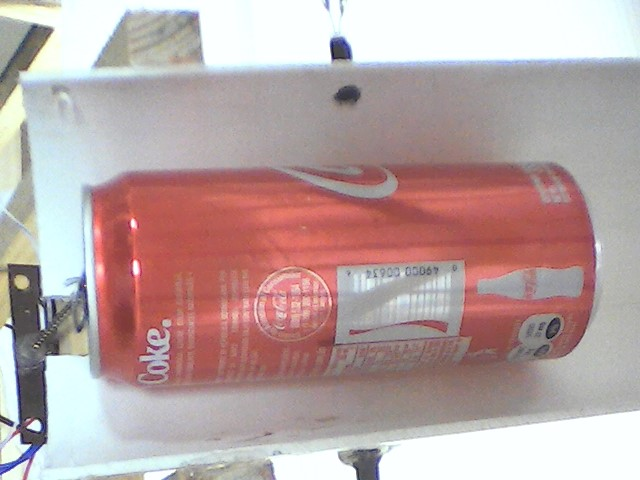lata: (70, 159, 617, 394)
